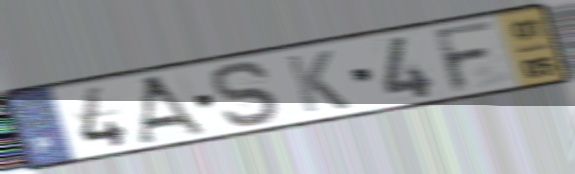4: (380, 32, 438, 102), (77, 84, 131, 150)
A: (136, 72, 211, 146)
F: (430, 17, 500, 96)
K: (282, 48, 354, 116)
S: (210, 58, 286, 129)
